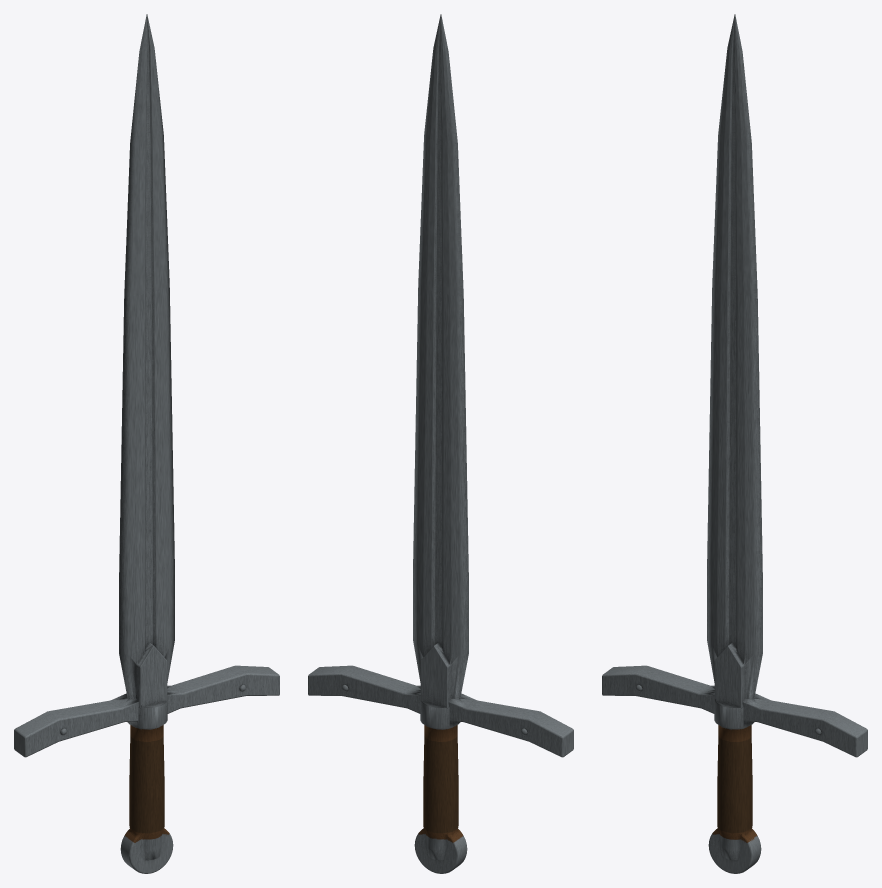
File: longsword-plain.glb
3 views of the same model, side by side, from view 1: azimuth 30°, elevation 25°; view 2: azimuth 150°, elevation 25°; view 3: azimuth 330°, elevation 25° (orthographic).
Parts seen in each view (by area): view 1: longsword-plain; view 2: longsword-plain; view 3: longsword-plain.
Boxes of the visible parts, <box> form: longsword-plain: <box>14,14,279,873</box>; longsword-plain: <box>308,14,573,873</box>; longsword-plain: <box>602,14,867,873</box>.
Size of the model in its own units: 0.3 by 0.96 by 0.042.
1 material, 1 textured.
